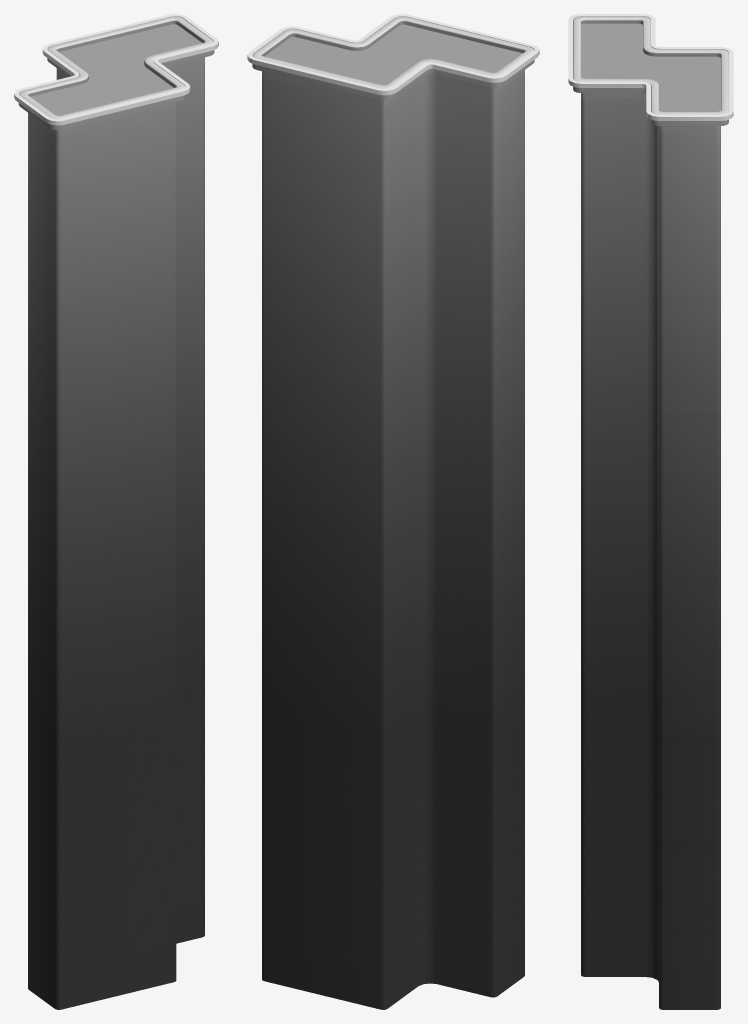
File: BLOCK_3D_Z.fbx
The picture shows the model from 3 angles, left to right: view 1: azimuth 30°, elevation 25°; view 2: azimuth 150°, elevation 25°; view 3: azimuth 270°, elevation 25°; orthographic projection. The views are drawn at different scales.
Visible parts, largest first — view 1: Z_1, Z_1.001, OUTLINE; view 2: Z_1, Z_1.001, OUTLINE; view 3: Z_1, Z_1.001, OUTLINE.
Part boxes in pixels (bbox=[...]): Z_1: bbox=[18, 16, 214, 1009]; Z_1.001: bbox=[28, 24, 204, 135]; OUTLINE: bbox=[14, 14, 218, 125]; Z_1: bbox=[252, 16, 534, 1009]; Z_1.001: bbox=[262, 24, 524, 105]; OUTLINE: bbox=[247, 14, 539, 95]; Z_1: bbox=[573, 16, 728, 1009]; Z_1.001: bbox=[581, 23, 720, 131]; OUTLINE: bbox=[568, 14, 733, 120].
Size of the model in its own units: 312 by 1270 by 212.
